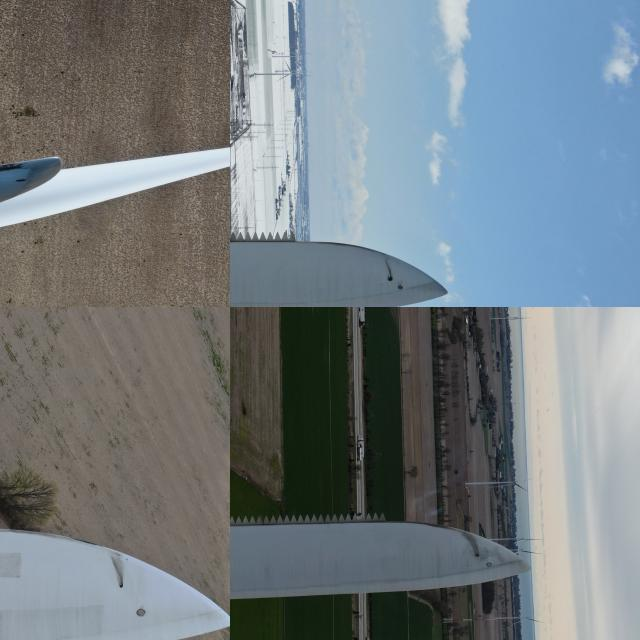damage: (0, 146, 20, 189), (110, 553, 126, 589), (380, 258, 394, 284), (471, 552, 481, 558), (116, 584, 124, 588)
